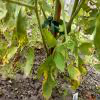Tomato Septoria leaf spot: (37, 54, 60, 99), (23, 42, 36, 80), (66, 56, 81, 82), (75, 54, 91, 77), (41, 28, 58, 49), (54, 50, 66, 73), (79, 41, 95, 55)
